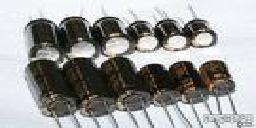Electrolytic Capacitor: (22, 56, 82, 128), (102, 59, 150, 124), (175, 3, 220, 51), (93, 8, 135, 56)
